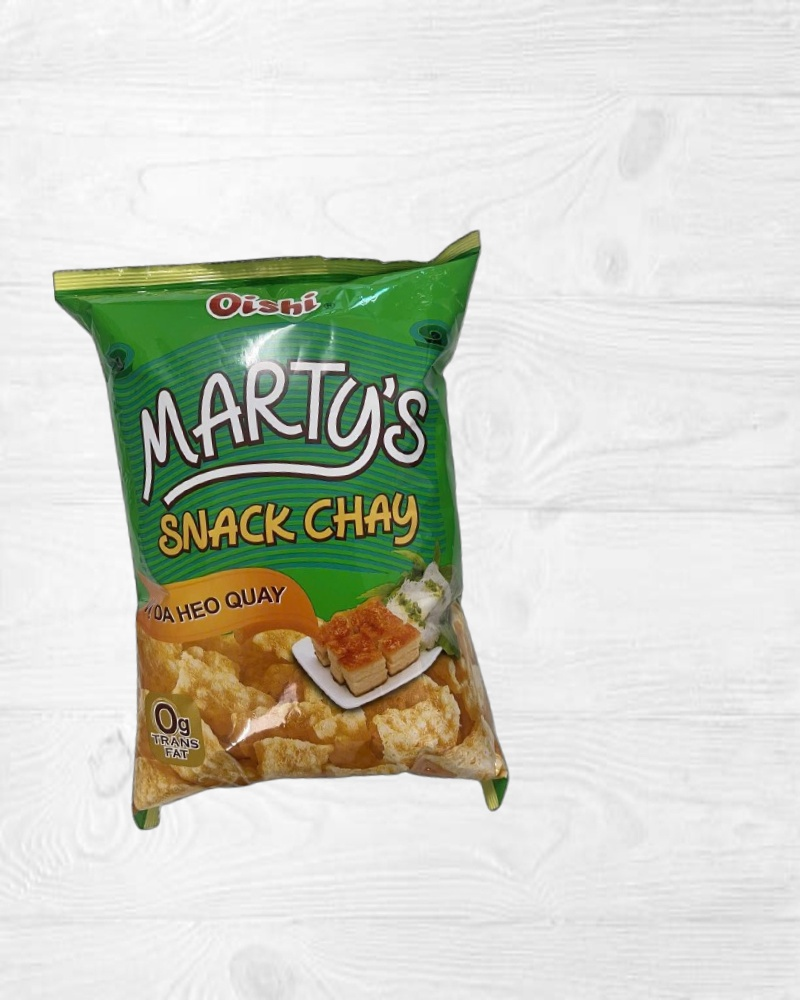Snack chay: (53, 230, 531, 846)
